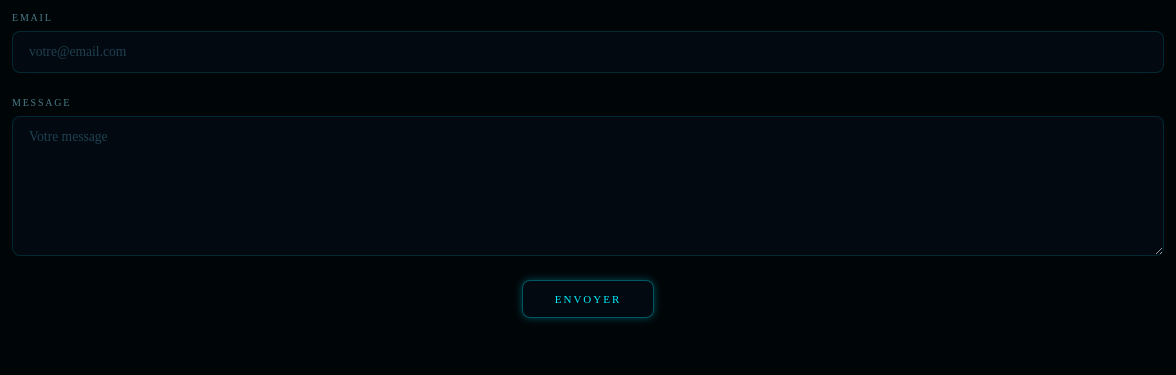
Test: ContactForm › displays captchaExpired error message
The width and height of the screenshot is (1176, 375).
In the field labelled "Email": (588, 52) [12,31,1164,73], type "test@example.com"
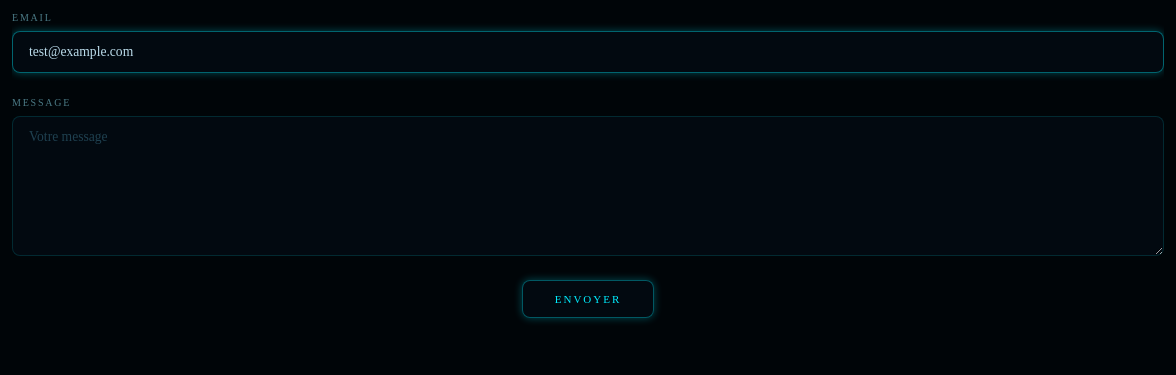
In the text box labelled "Message": (588, 186) [12,116,1164,256], type "Un message valide de test."
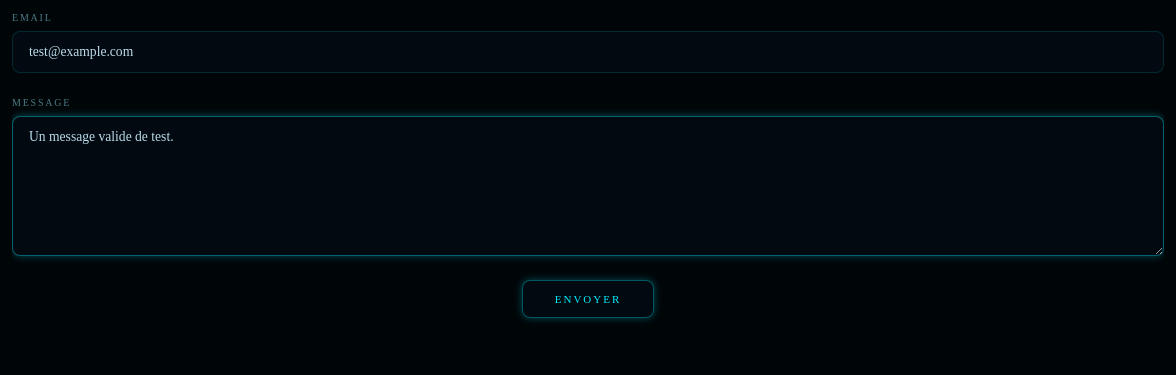
Click the button "Envoyer": (588, 299) [522,280,654,318]
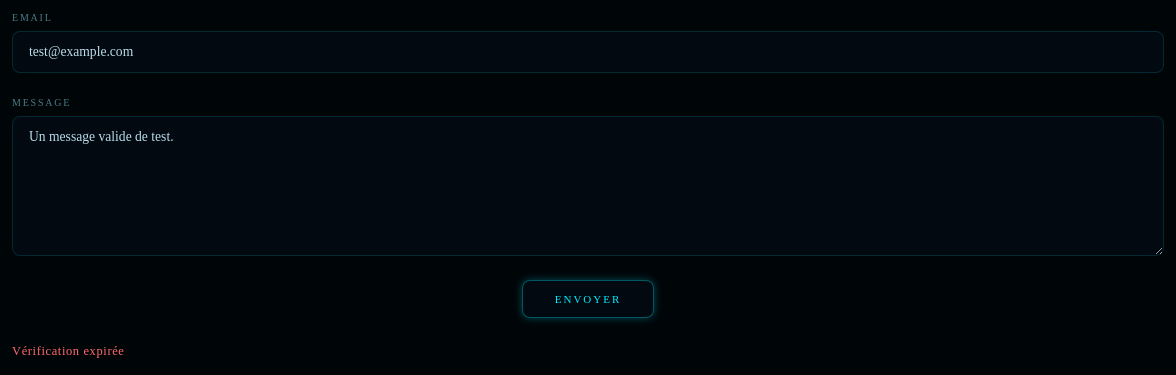
Now the text "Vérification expirée" is shown, box [12,344,124,358]
